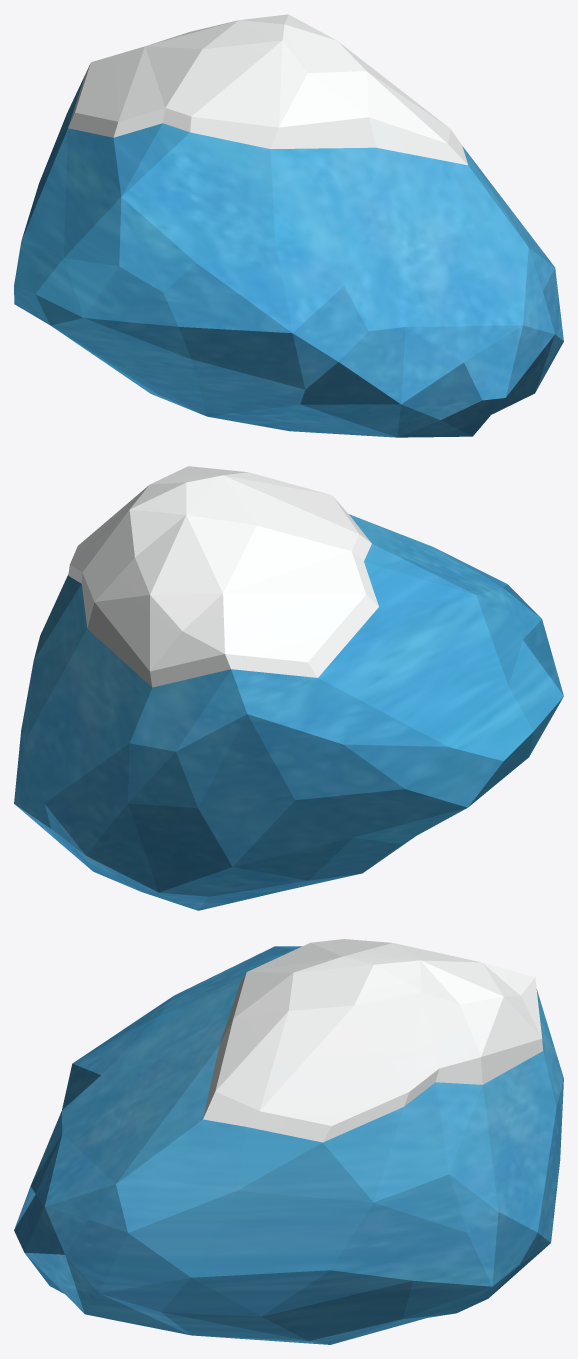
The model's file is HX-Bingshitou1.FBX.
The picture shows the model from 3 angles, top to bottom: view 1: azimuth 30°, elevation 25°; view 2: azimuth 150°, elevation 25°; view 3: azimuth 270°, elevation 25°; orthographic projection. The views are drawn at different scales.
Visible parts, largest first — view 1: shitou006, xue005; view 2: shitou006, xue005; view 3: shitou006, xue005.
Boxes of the visible parts, bbox=[...] form: shitou006: bbox=[14, 76, 563, 437]; xue005: bbox=[68, 14, 467, 165]; shitou006: bbox=[14, 514, 563, 910]; xue005: bbox=[68, 466, 378, 687]; shitou006: bbox=[14, 946, 563, 1344]; xue005: bbox=[203, 939, 543, 1142].
Bounding box in the file's own units: 393 × 306 × 422.
